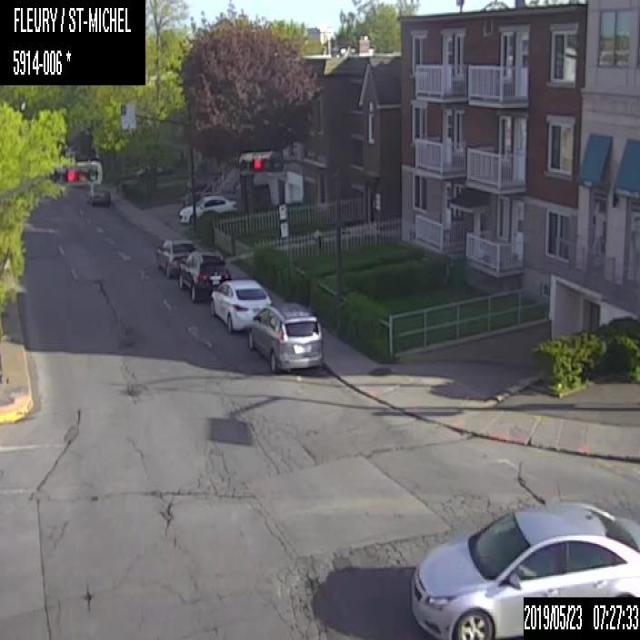vehicle: (406, 500, 639, 639), (248, 298, 321, 371), (208, 273, 272, 334), (176, 246, 232, 303), (154, 233, 196, 279), (178, 193, 237, 224), (85, 182, 112, 206)
